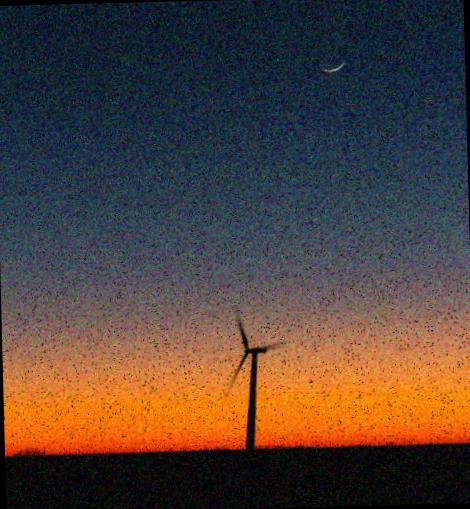wind turbine: (225, 303, 290, 446)
